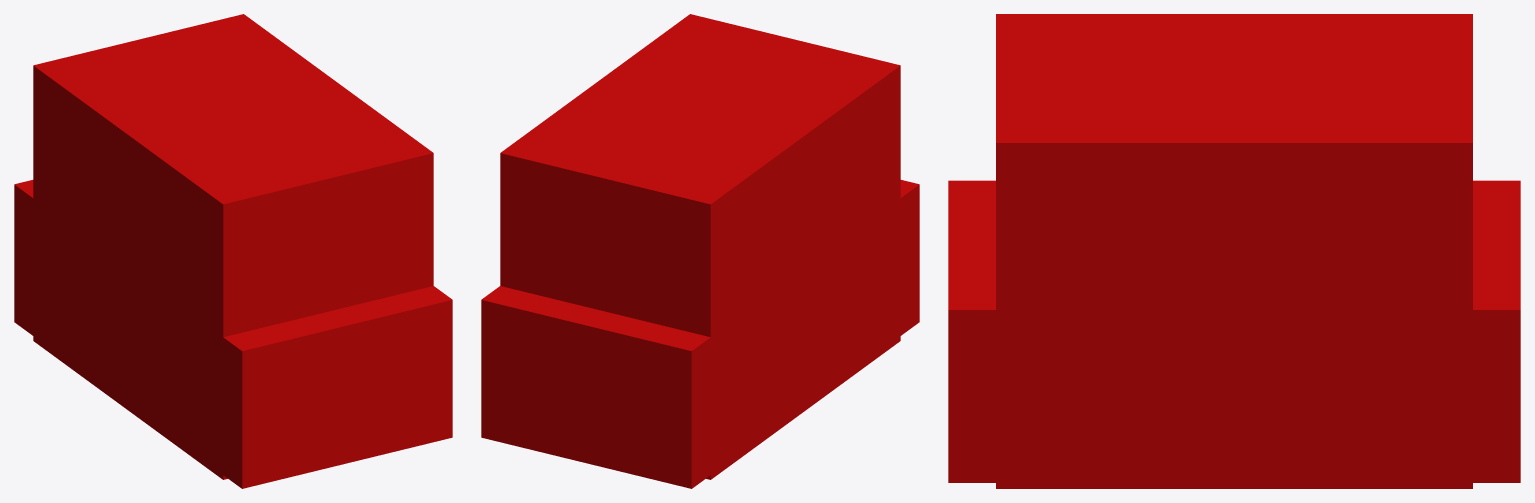
The model's file is talos_trunk_lower.dae.
The picture shows the model from 3 angles, left to right: view 1: azimuth 30°, elevation 25°; view 2: azimuth 150°, elevation 25°; view 3: azimuth 270°, elevation 25°; orthographic projection. The views are drawn at different scales.
Parts seen in each view (by area): view 1: trunk_lower; view 2: trunk_lower; view 3: trunk_lower.
Boxes of the visible parts, bbox=[...] form: trunk_lower: bbox=[14, 14, 452, 488]; trunk_lower: bbox=[481, 14, 919, 488]; trunk_lower: bbox=[948, 14, 1520, 488].
Bounding box in the file's own units: 0.32 × 0.6 × 0.4.
